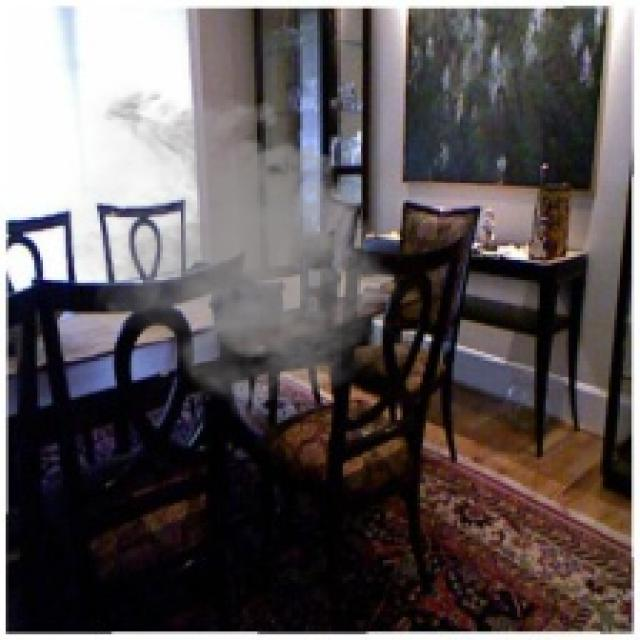smoke: (43, 80, 411, 426)
